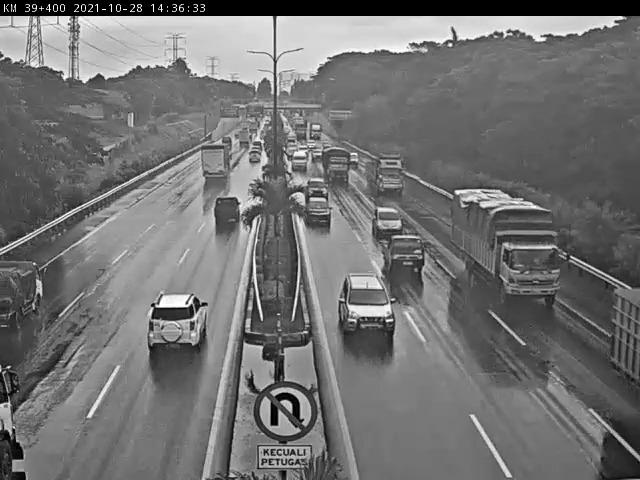big truck: (441, 194, 549, 291), (593, 277, 640, 372), (342, 264, 396, 331), (360, 154, 405, 189), (201, 149, 233, 181), (321, 152, 351, 176)
car: (139, 294, 201, 351), (563, 440, 640, 480), (384, 229, 421, 266), (207, 202, 244, 236), (369, 204, 397, 235), (307, 193, 327, 220), (305, 175, 333, 194), (293, 155, 308, 169), (249, 152, 261, 166)
